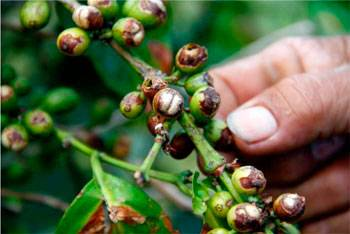broca de cafe: (123, 57, 219, 160), (48, 1, 210, 56)
